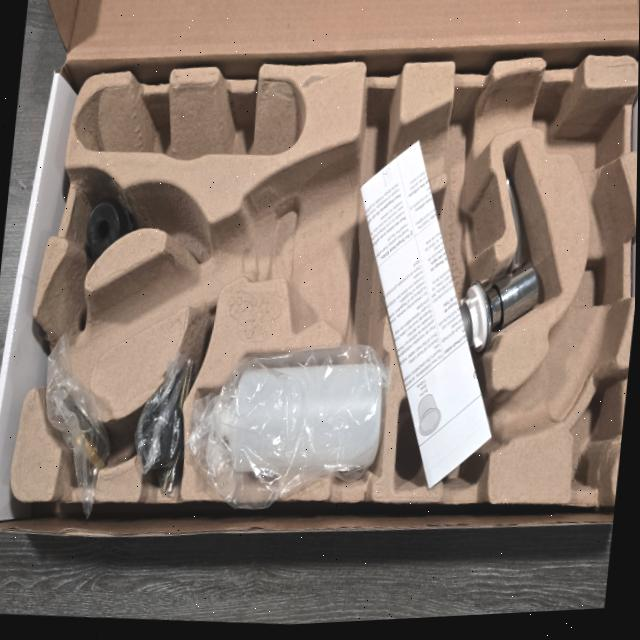1m: (28, 74, 628, 493)
2o: (411, 175, 539, 376)
3: (196, 360, 383, 474)
4m: (72, 82, 304, 162)
5: (85, 198, 130, 260)
6: (42, 331, 110, 517)
7: (135, 353, 193, 497)
8: (359, 139, 492, 489)
